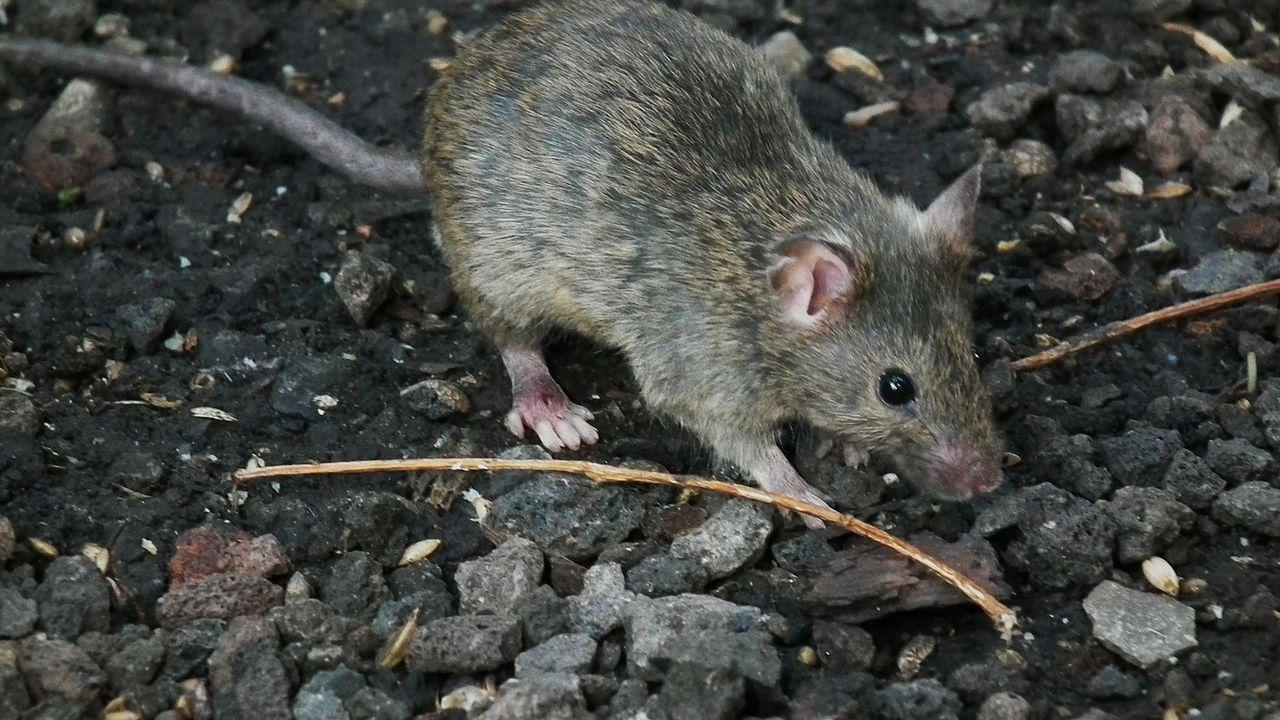rat: (2, 1, 1004, 529)
